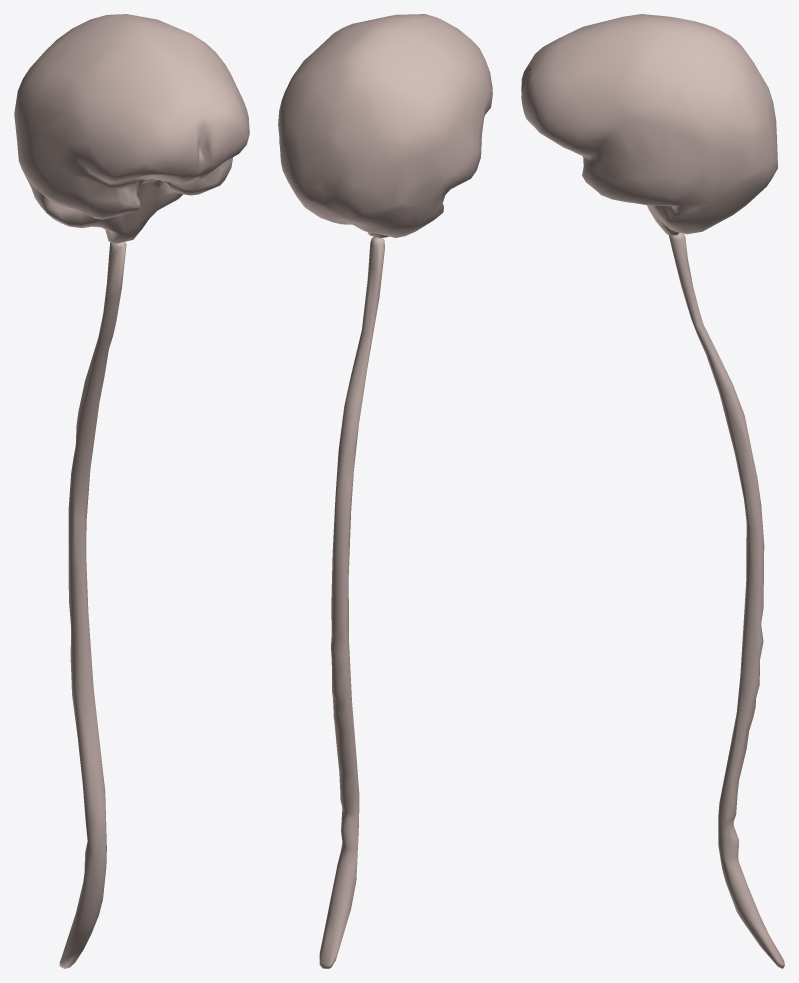
File: pediatric_child_10y_female.nervous.LOD1.glb
3 renders of one model, left to right at view 1: azimuth 30°, elevation 25°; view 2: azimuth 150°, elevation 25°; view 3: azimuth 270°, elevation 25°, orthographic. The views are drawn at different scales.
Parts seen in each view (by area): view 1: PEDIATRIC.CHILD_10Y.FEMALE.NERVOUS.BRAIN, PEDIATRIC.CHILD_10Y.FEMALE.NERVOUS.SPINAL_CORD; view 2: PEDIATRIC.CHILD_10Y.FEMALE.NERVOUS.BRAIN, PEDIATRIC.CHILD_10Y.FEMALE.NERVOUS.SPINAL_CORD; view 3: PEDIATRIC.CHILD_10Y.FEMALE.NERVOUS.BRAIN, PEDIATRIC.CHILD_10Y.FEMALE.NERVOUS.SPINAL_CORD.
Boxes of the visible parts, x1,y1,x2,y2 form: PEDIATRIC.CHILD_10Y.FEMALE.NERVOUS.BRAIN: (14,14,249,243); PEDIATRIC.CHILD_10Y.FEMALE.NERVOUS.SPINAL_CORD: (59,242,126,968); PEDIATRIC.CHILD_10Y.FEMALE.NERVOUS.BRAIN: (278,14,492,238); PEDIATRIC.CHILD_10Y.FEMALE.NERVOUS.SPINAL_CORD: (319,237,384,968); PEDIATRIC.CHILD_10Y.FEMALE.NERVOUS.BRAIN: (521,14,777,235); PEDIATRIC.CHILD_10Y.FEMALE.NERVOUS.SPINAL_CORD: (669,232,784,968).
Bounding box in the file's own units: 0.129 × 0.6365 × 0.1606.
